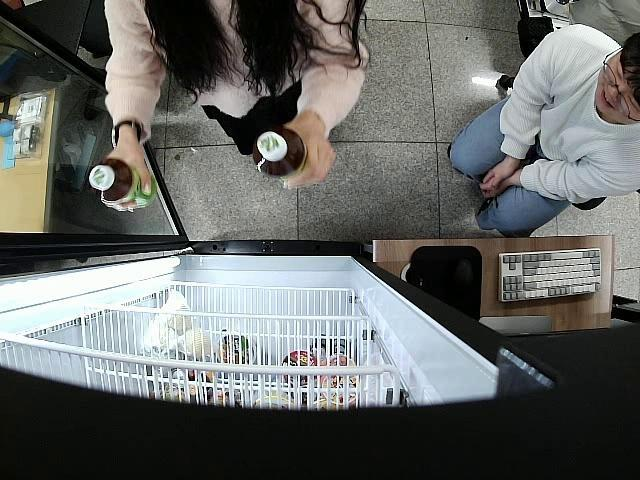19_17cha: (88, 157, 156, 210), (254, 126, 306, 180)
